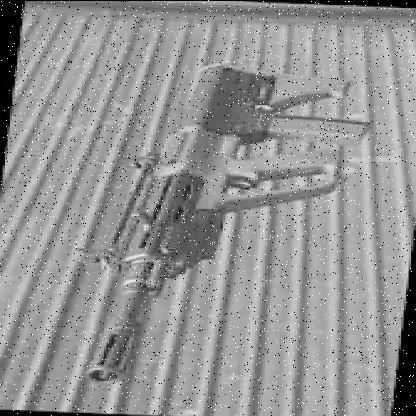rifle: (69, 58, 389, 402)
